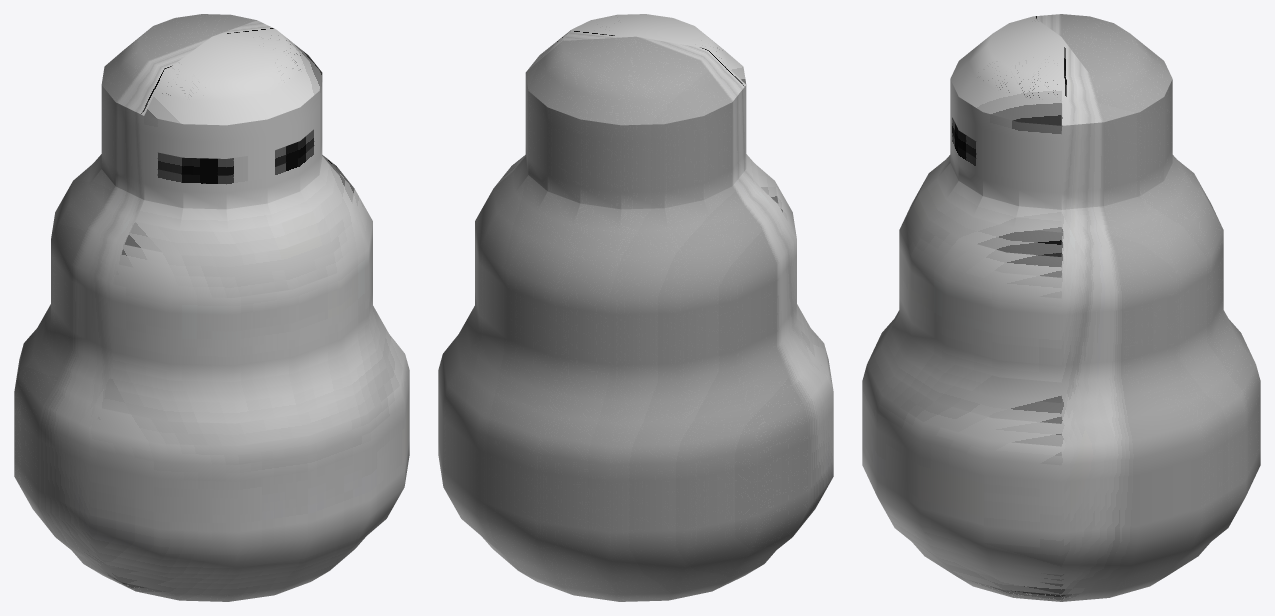
The model's file is Building_Snowman__B.obj.
The picture shows the model from 3 angles, left to right: view 1: azimuth 30°, elevation 25°; view 2: azimuth 150°, elevation 25°; view 3: azimuth 270°, elevation 25°; orthographic projection.
Parts seen in each view (by area): view 1: Body; view 2: Body; view 3: Body.
Part boxes in pixels (x1,y1,x2,y2): Body: (14, 14, 409, 601); Body: (438, 14, 833, 601); Body: (862, 14, 1260, 601).
Size of the model in its own units: 0.6935 by 1.02 by 0.6935.
Materials: 1 (1 with a texture image).
